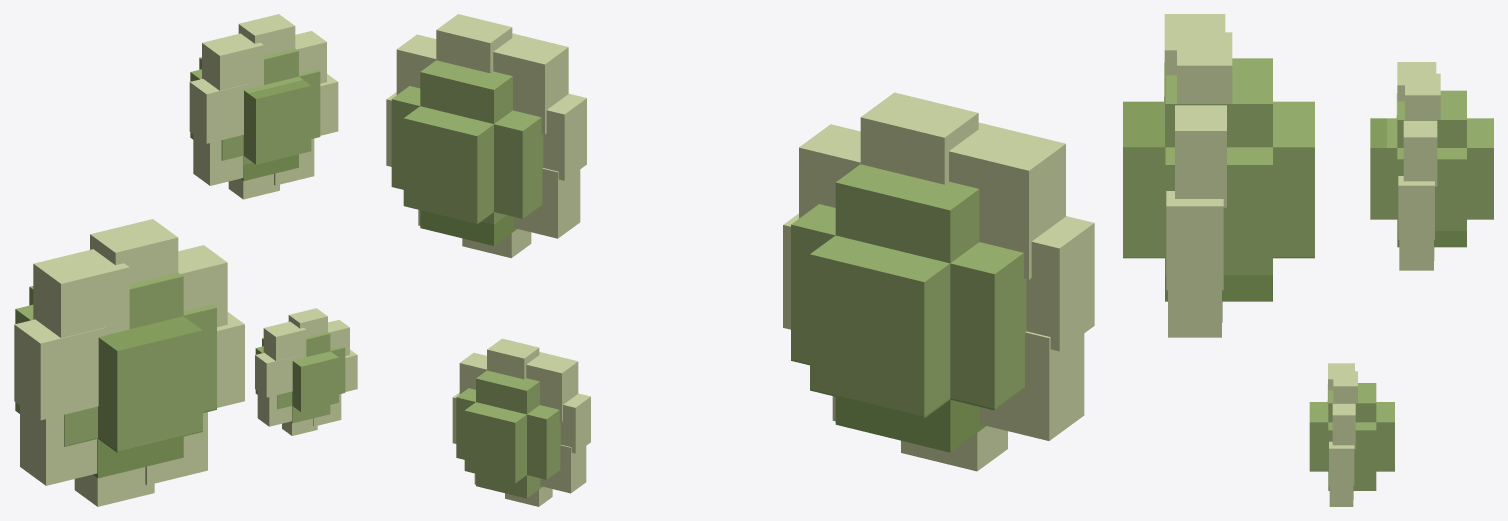
File: me_bio_cells.obj
The picture shows the model from 3 angles, left to right: view 1: azimuth 30°, elevation 25°; view 2: azimuth 150°, elevation 25°; view 3: azimuth 270°, elevation 25°; orthographic projection. The views are drawn at different scales.
Parts seen in each view (by area): view 1: Main_culture, Upper_right_culture, Small_lower_culture; view 2: Main_culture, Upper_right_culture, Small_lower_culture; view 3: Main_culture, Upper_right_culture, Small_lower_culture.
Part boxes in pixels (x1,y1,x2,y2): Main_culture: [14, 219, 244, 506]; Upper_right_culture: [189, 14, 338, 199]; Small_lower_culture: [255, 308, 357, 435]; Main_culture: [783, 92, 1094, 471]; Upper_right_culture: [386, 14, 586, 258]; Small_lower_culture: [452, 338, 590, 506]; Main_culture: [1123, 14, 1314, 337]; Upper_right_culture: [1370, 62, 1493, 270]; Small_lower_culture: [1309, 363, 1394, 506].
Size of the model in its own units: 0.5269 by 0.4681 by 0.3828.
